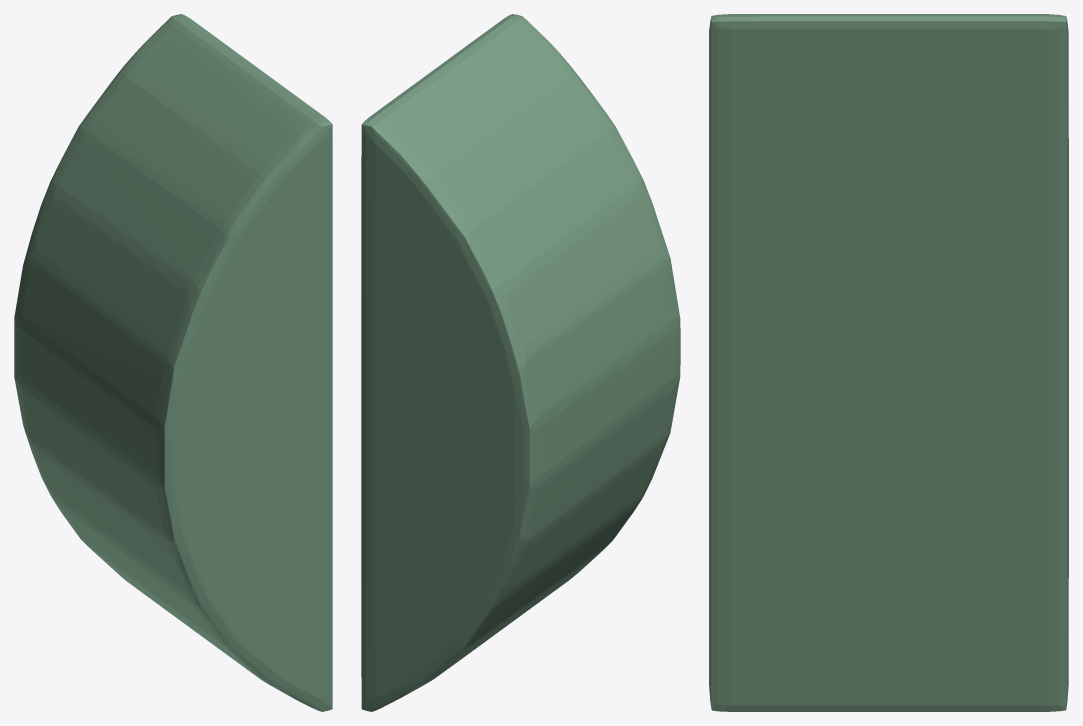
The model's file is left_forearm_1_part_0.obj.
3 renders of one model, left to right at view 1: azimuth 30°, elevation 25°; view 2: azimuth 150°, elevation 25°; view 3: azimuth 270°, elevation 25°, orthographic. The views are drawn at different scales.
Size of the model in its own units: 35.73 by 118 by 55.32.
